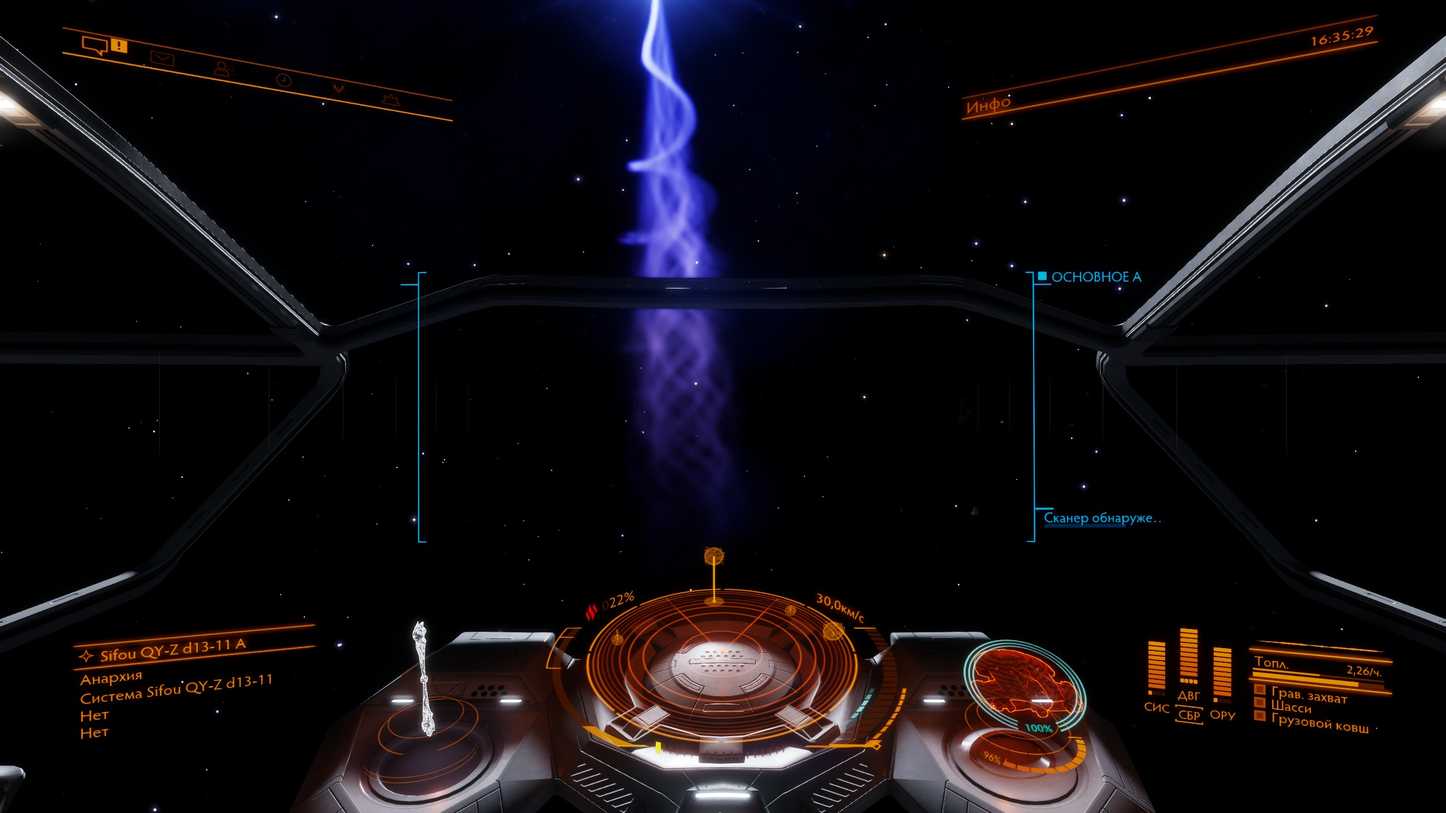core: (299, 544, 1158, 813)
jetcone: (627, 0, 706, 278), (1370, 40, 1446, 99)
